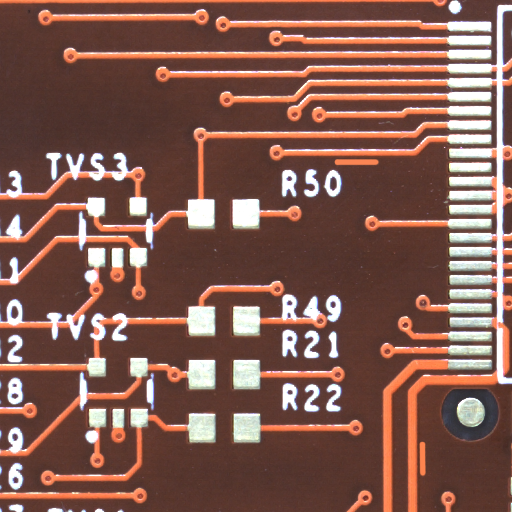Spurious_copper: (355, 161, 406, 170), (422, 457, 430, 496)
